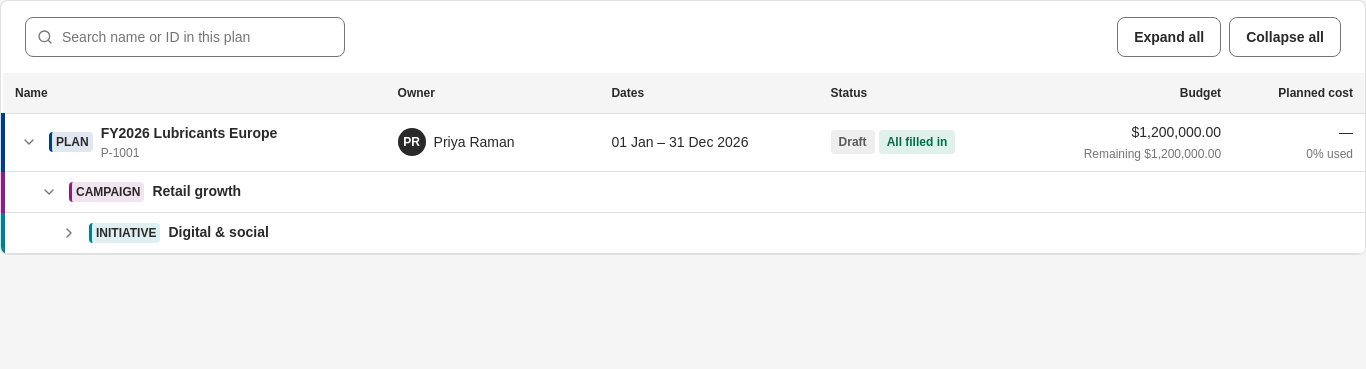
039 US1: the plan tree search finds line items › scenarios 3 and 4: shows only matching line items, and none once the search is cleared
Type "venue" into the search field labelled "Search name or ID in this plan" at point(185, 37), box [25,17,345,57]
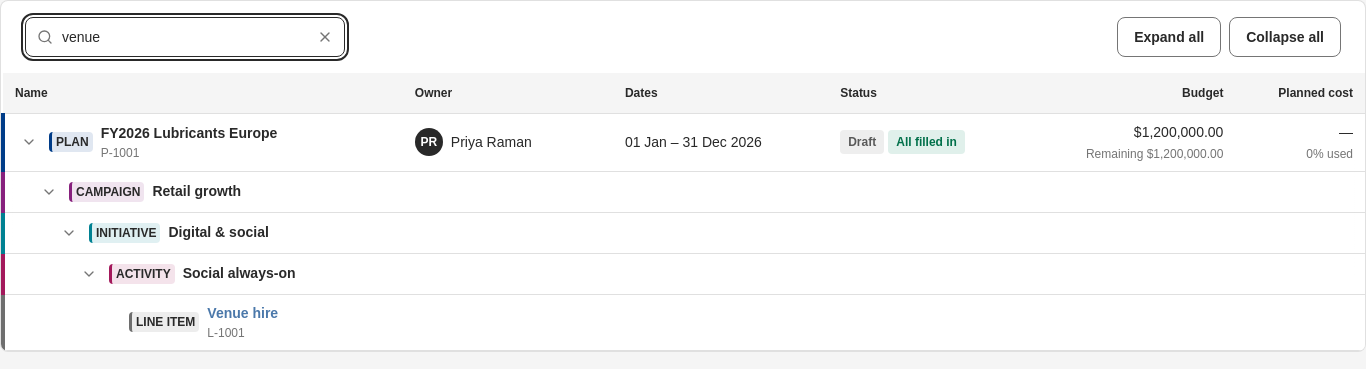
Check: the link "Venue hire" is shown, box [207,302,278,324]
Clear the search field named "Search name or ID in this plan" at point(185, 37), box [25,17,345,57]
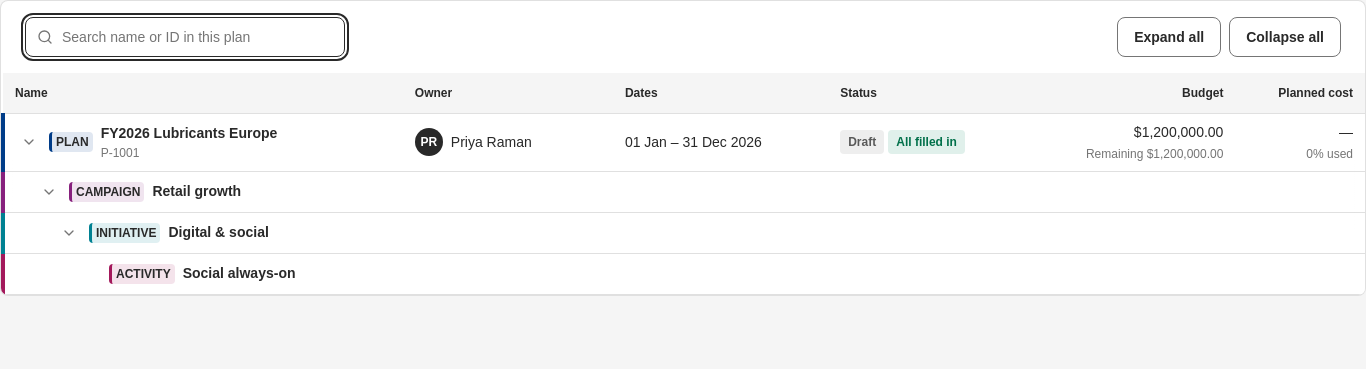
Check: the link "Venue hire" is gone
